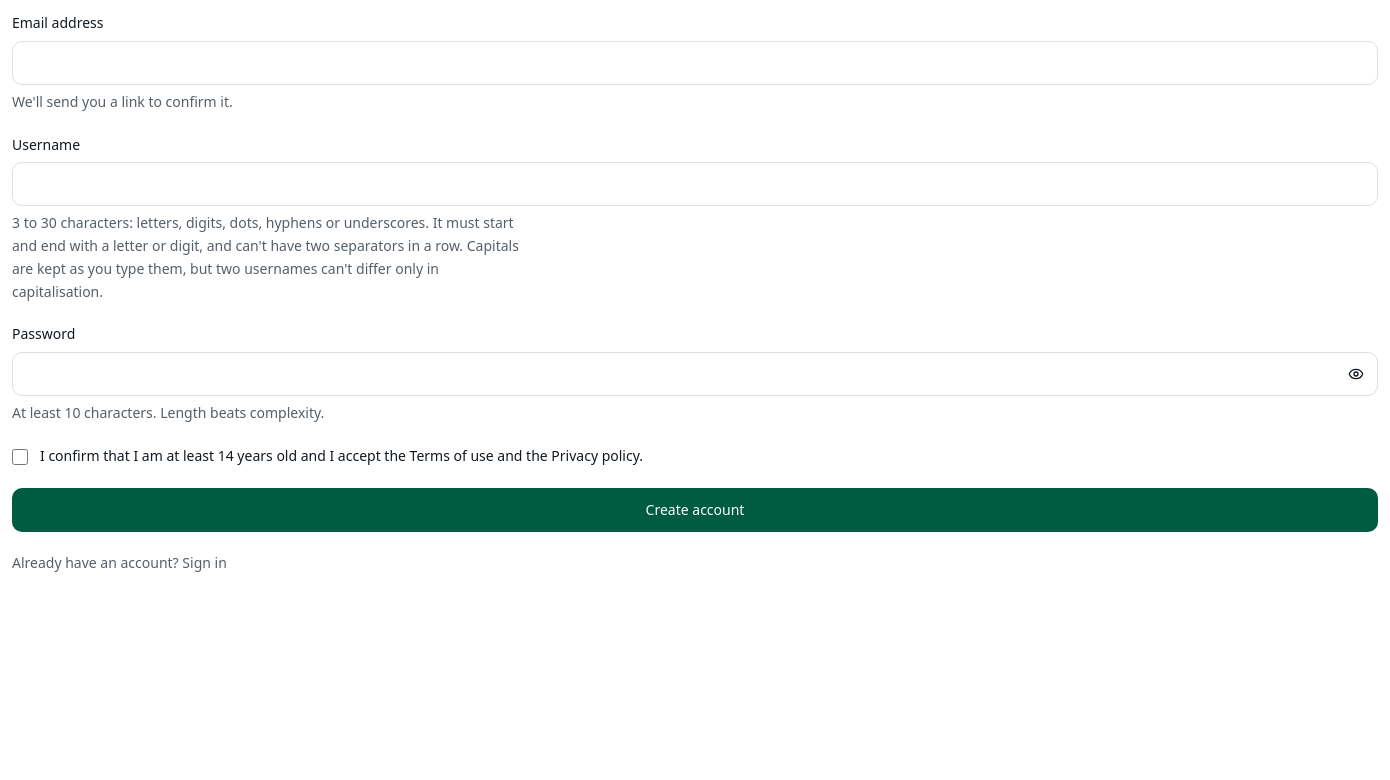
it: RegisterForm › registerForm_acceptedTermsAfterFailing_clearsTheMessage
Type "ruben@correo.es" into the field labelled "Email address" at (695, 63), box top-left (12, 41), bottom-right (1378, 85)
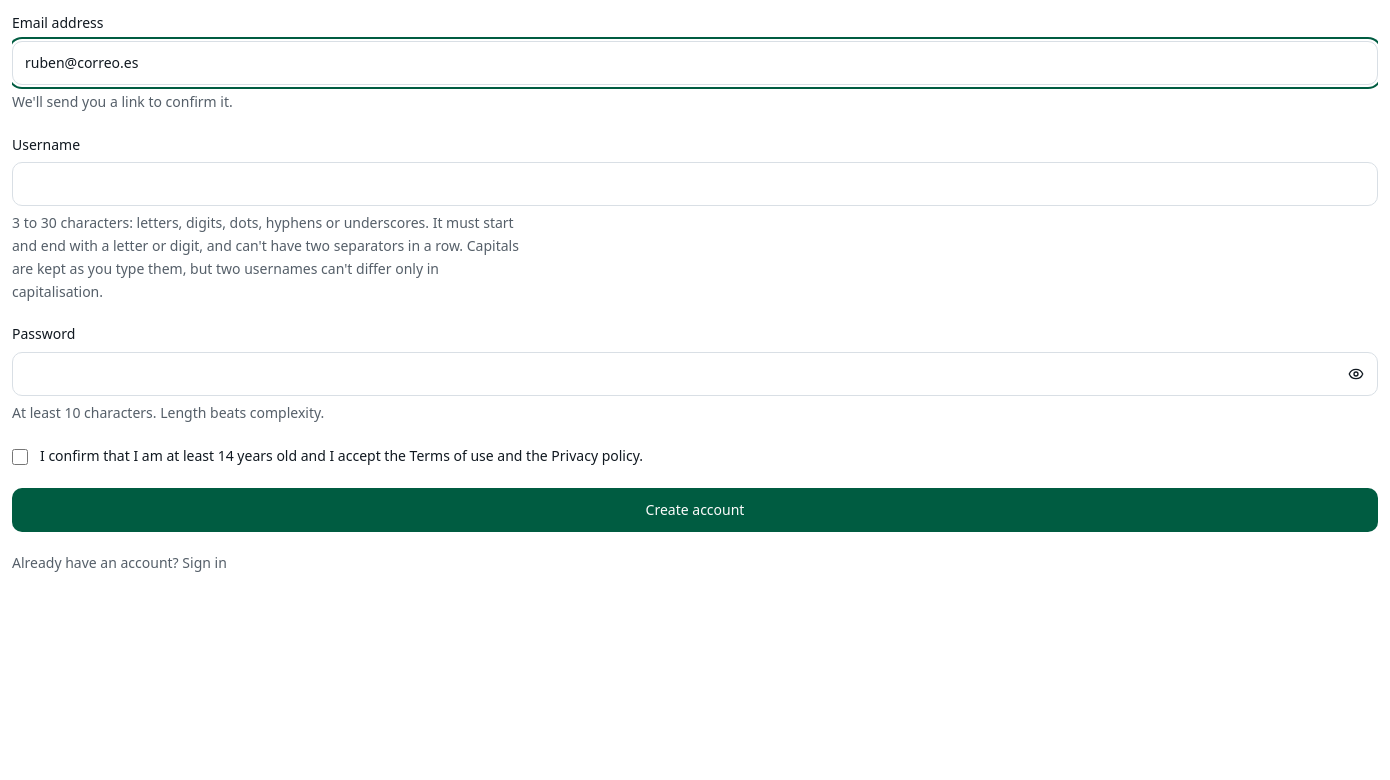
Type "ruben" into the field labelled "Username" at (695, 184), box top-left (12, 162), bottom-right (1378, 206)
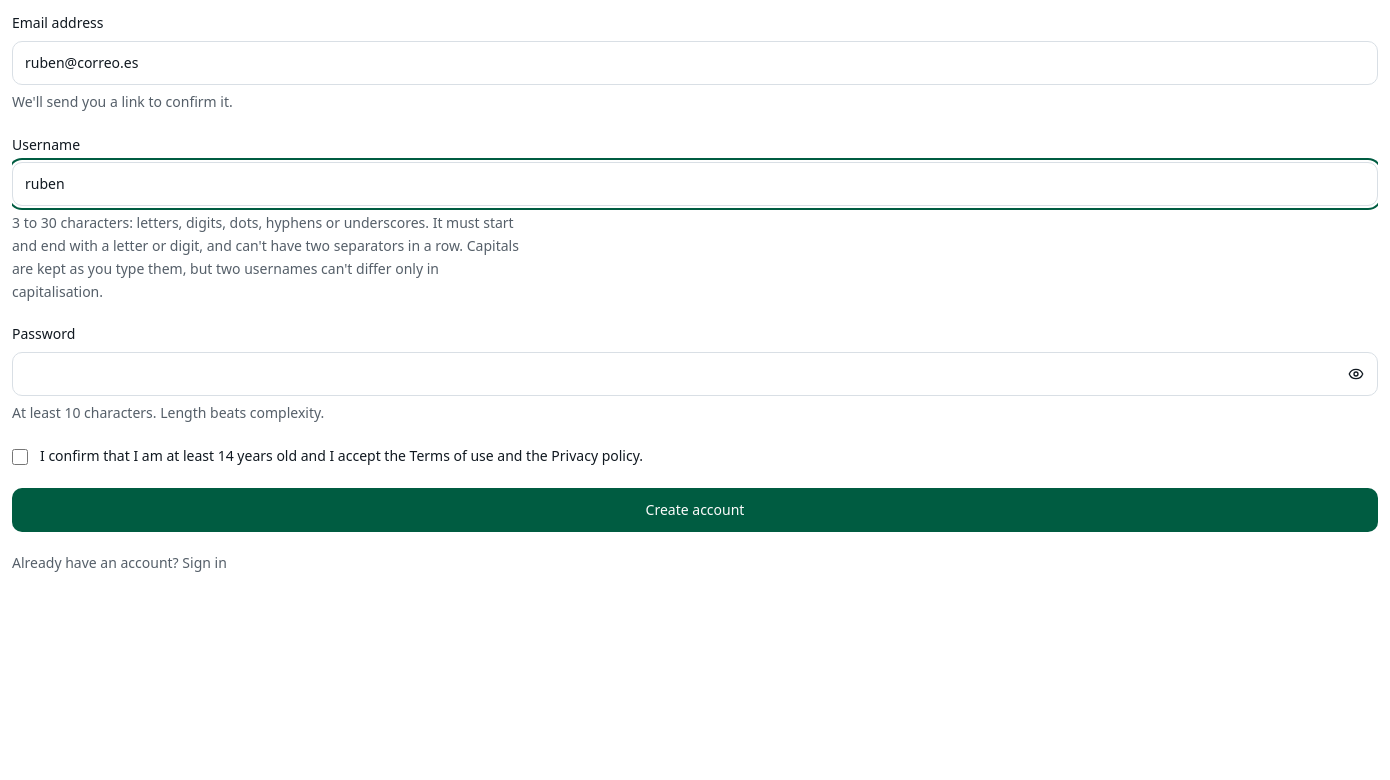
Type "montana2026segura" into the password field labelled "Password" at (695, 374), box top-left (12, 352), bottom-right (1378, 396)
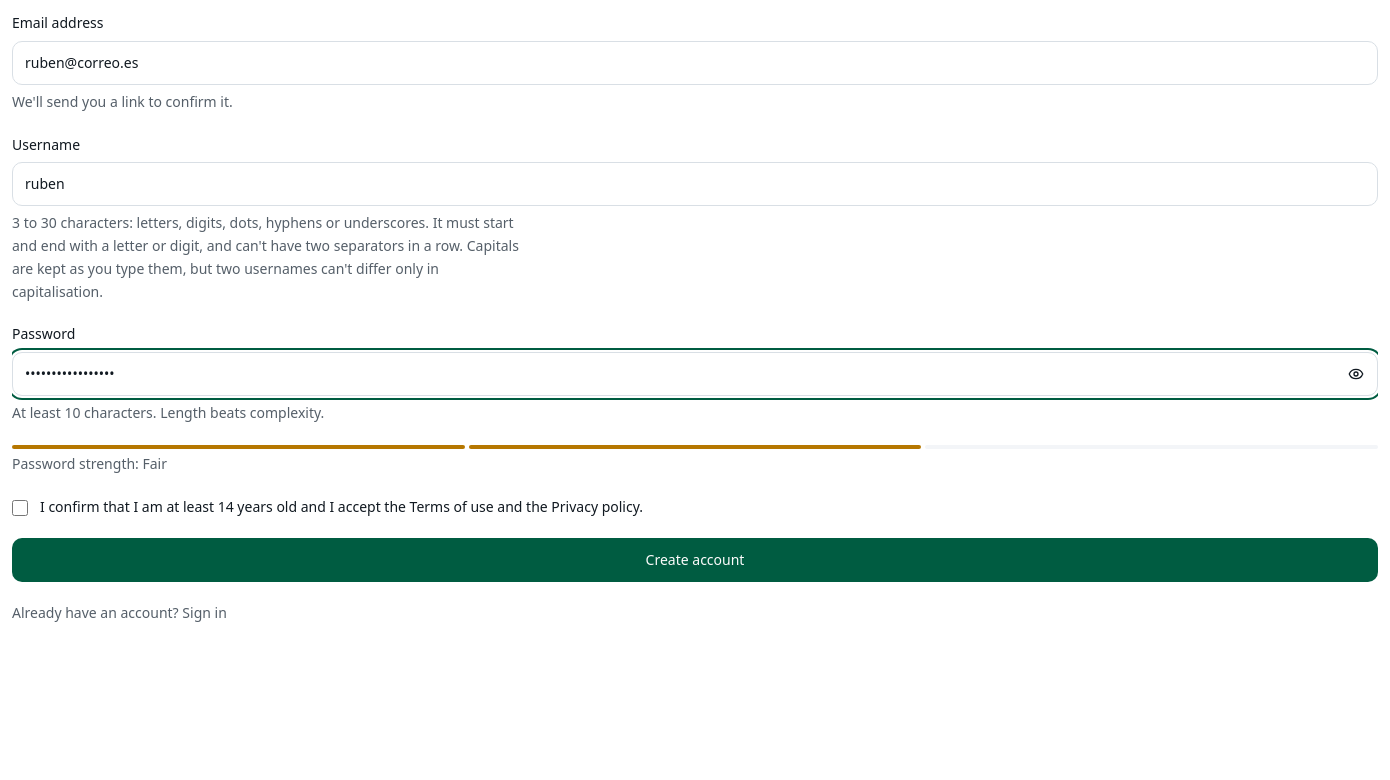
Click the button "Create account" at (695, 560), box top-left (12, 538), bottom-right (1378, 582)
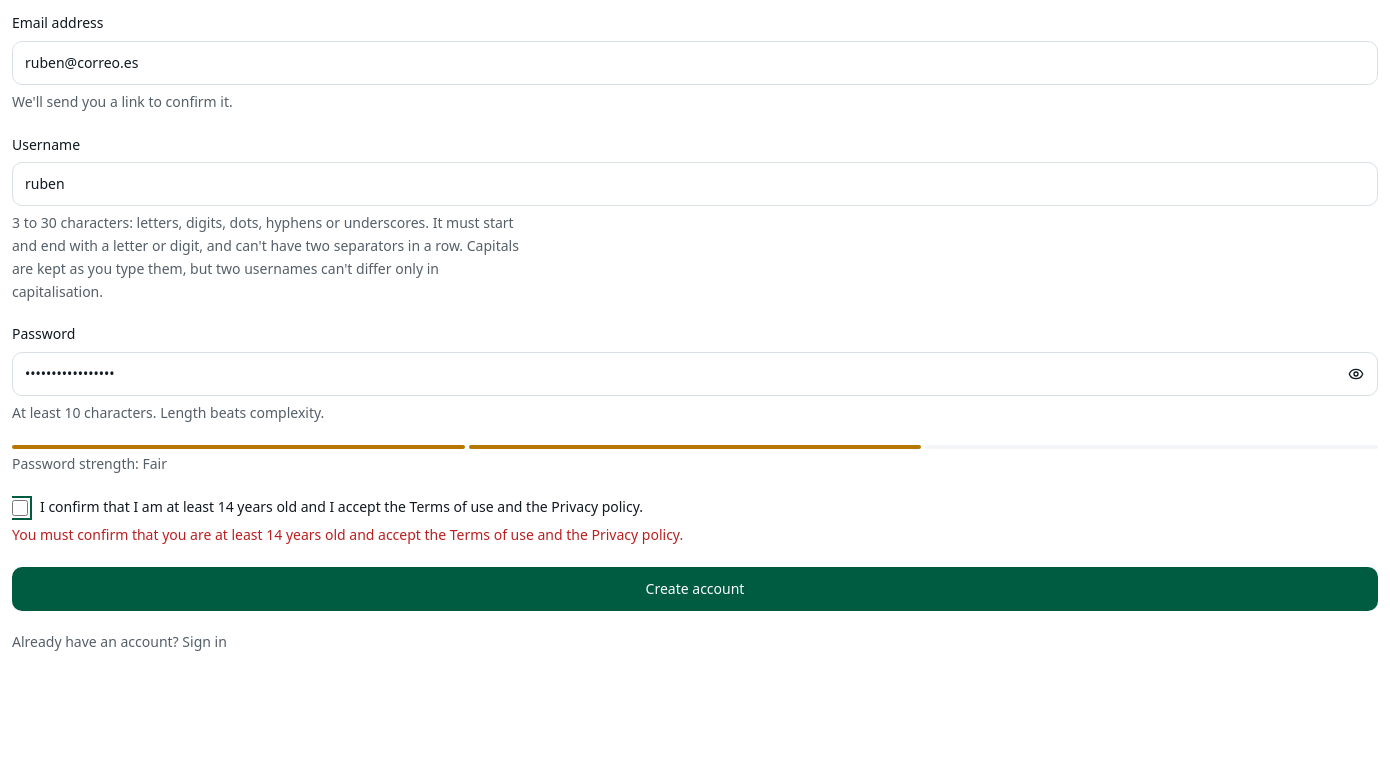
Check: the text "You must confirm that you are at least 14 years old and accept the Terms of use and the Privacy policy." is shown, box top-left (12, 525), bottom-right (683, 544)
Click the checkbox at (20, 508), box top-left (12, 500), bottom-right (28, 516)
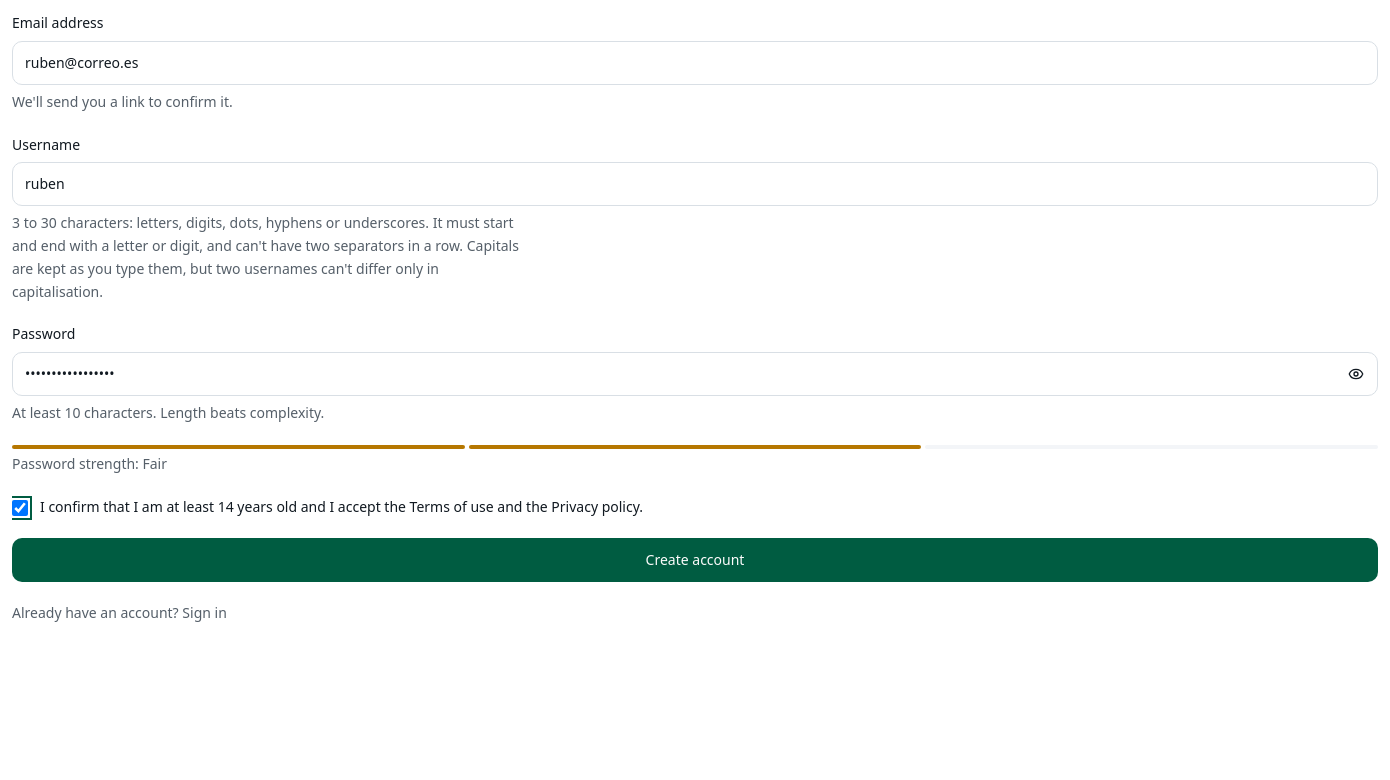
Check: the text "You must confirm that you are at least 14 years old and accept the Terms of use and the Privacy policy." is gone
